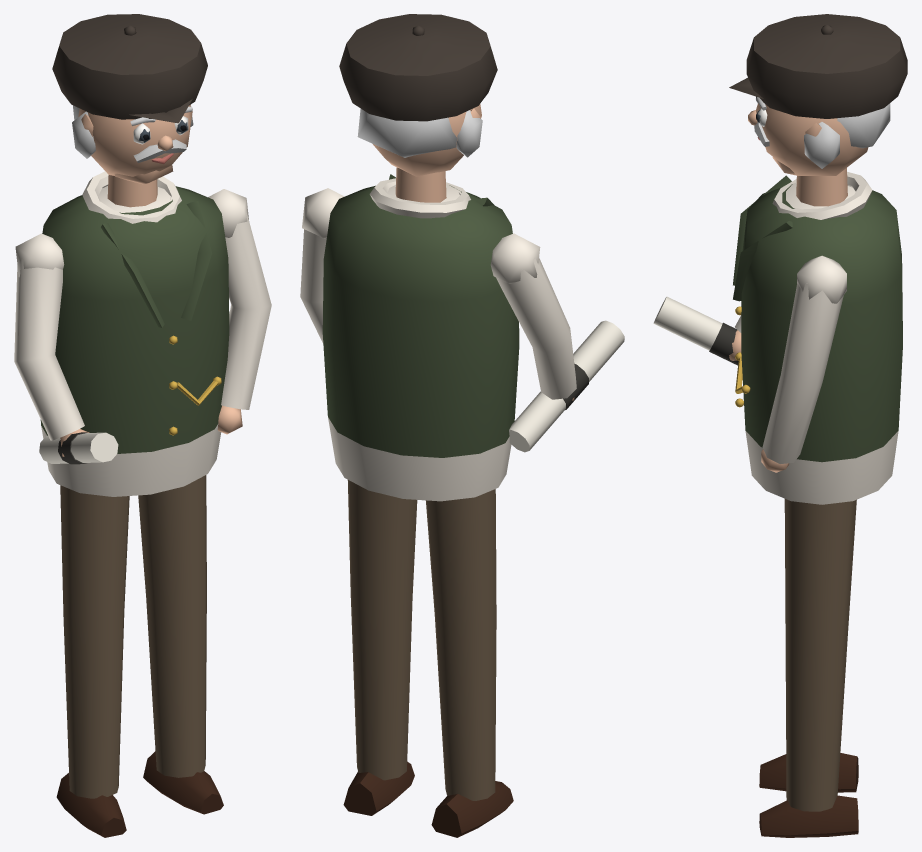
Rendered from char_grandpa.glb.
3 renders of one model, left to right at view 1: azimuth 30°, elevation 25°; view 2: azimuth 150°, elevation 25°; view 3: azimuth 270°, elevation 25°, orthographic.
Visible parts, largest first — view 1: char_grandpa; view 2: char_grandpa; view 3: char_grandpa.
Part boxes in pixels (x1,y1,x2,y2): char_grandpa: (14, 14, 271, 837); char_grandpa: (300, 14, 624, 837); char_grandpa: (653, 14, 907, 837).
Size of the model in its own units: 0.5934 by 1.7 by 0.5003.
